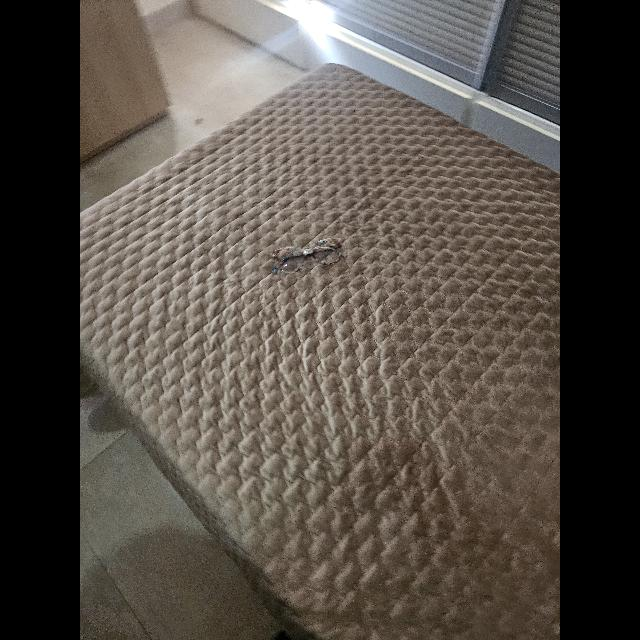glasses: (272, 238, 344, 274)
